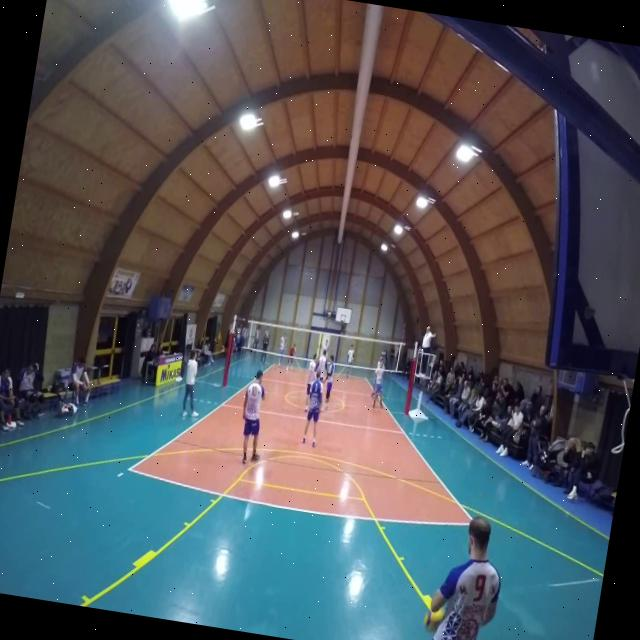Volleyball: (422, 596, 448, 637)
serve: (411, 499, 514, 640)
